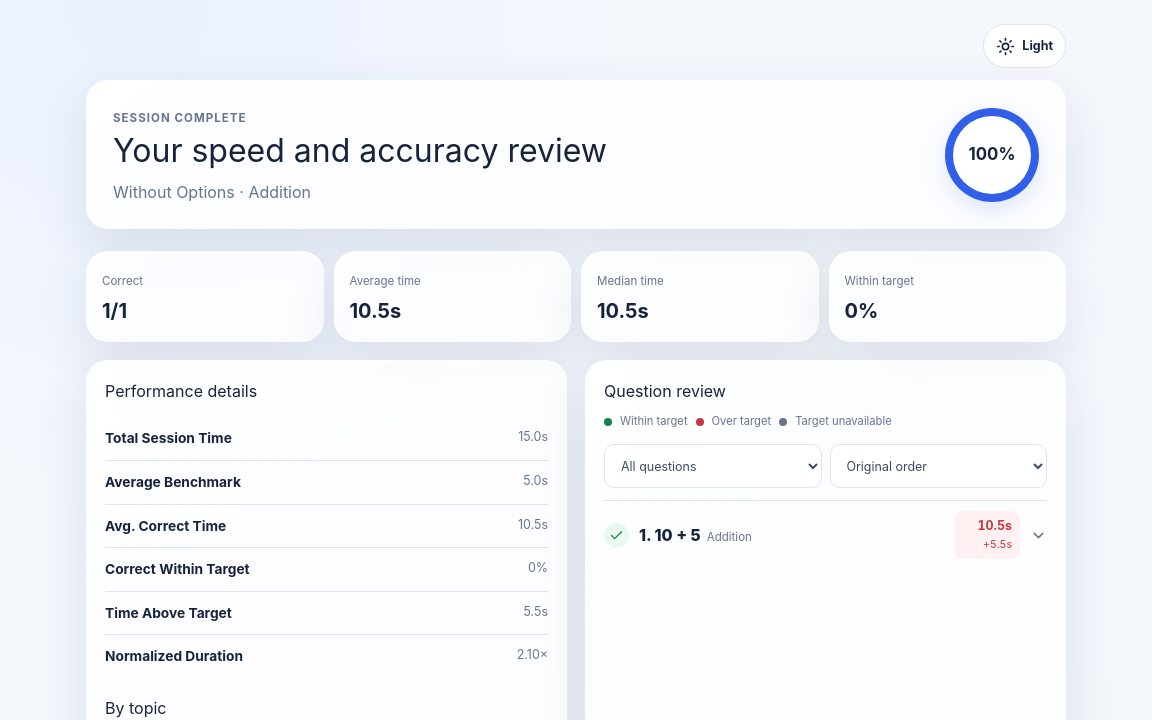
Test: benchmark-aware question review › shows complete expandable details with signed target difference
Click the text "1. 10 + 5". click: (670, 535)
box: [639,523,701,547]
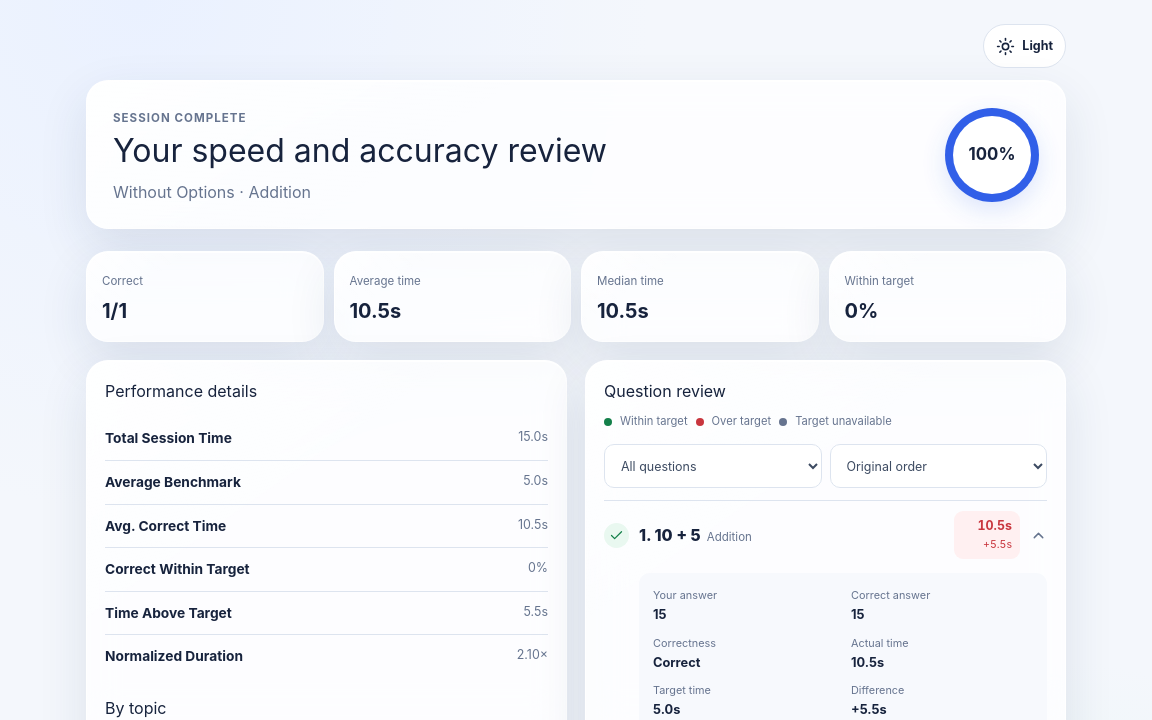
Expected: the text "+5.5s" in the row of "10 + 5" is shown, [983,538,1012,551]
Expected: the text "Target time" is shown, [653,683,711,697]
